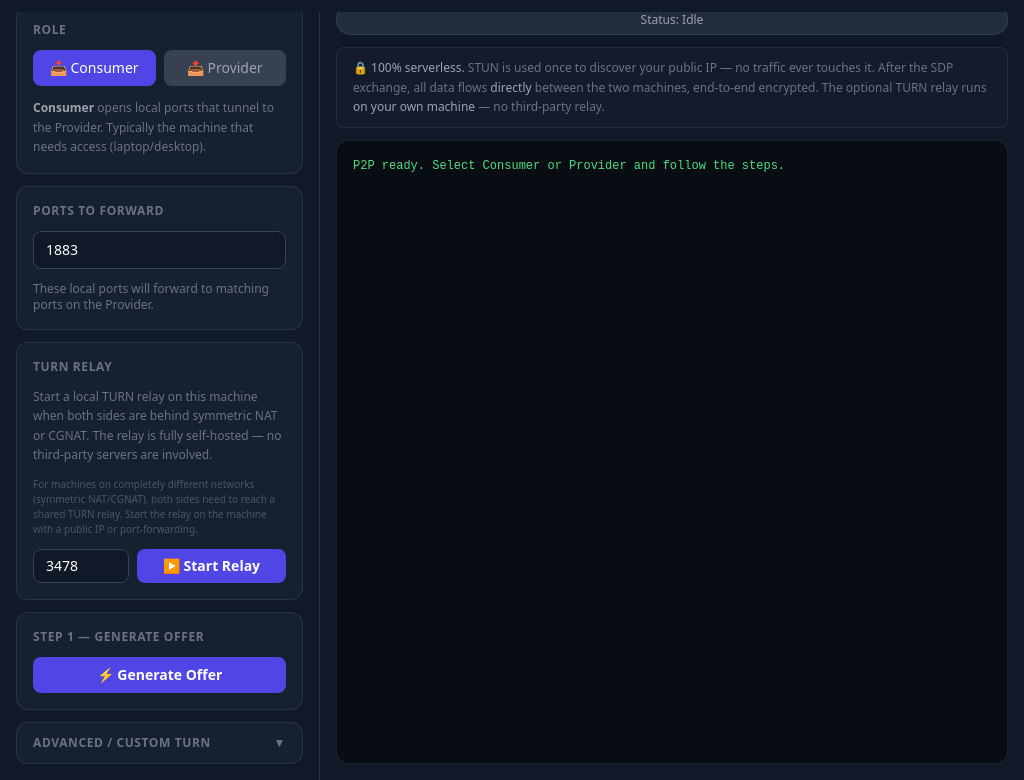
Test: P2pTab relay control › logs relay error when RelayStart returns a non-empty string
(page scrolled)
Step 1. Click the button "▶ Start Relay" → (212, 566), box top-left (137, 548), bottom-right (286, 582)
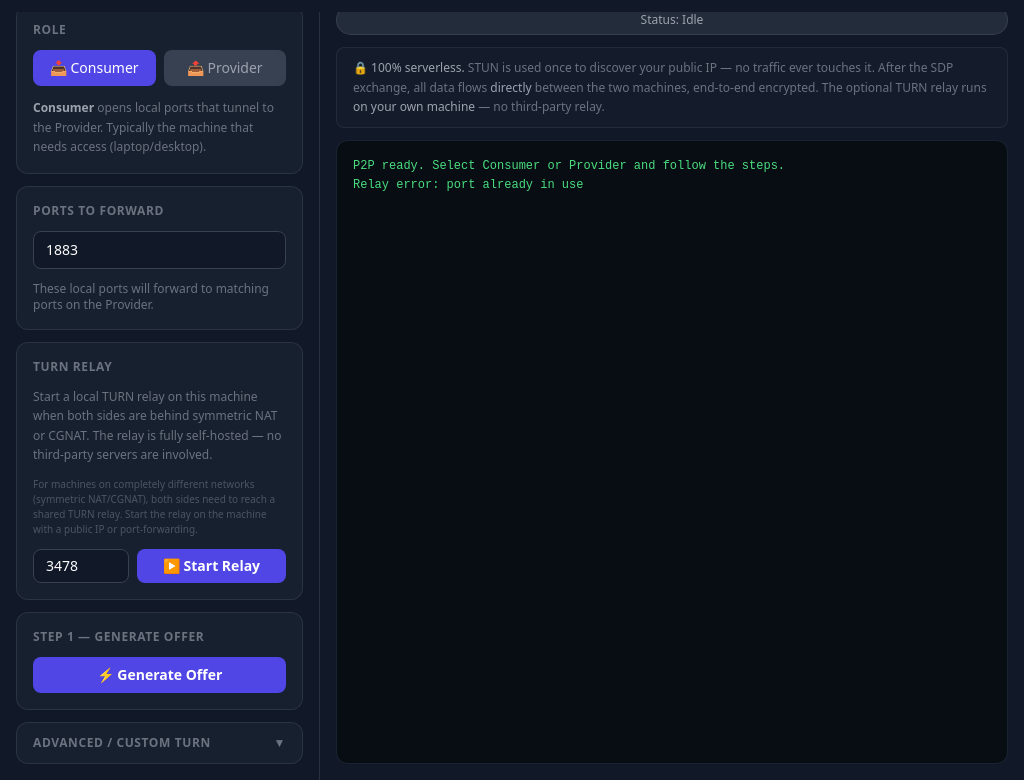
Check: the text "Relay error: port already in use" is shown, box top-left (353, 158), bottom-right (785, 192)
